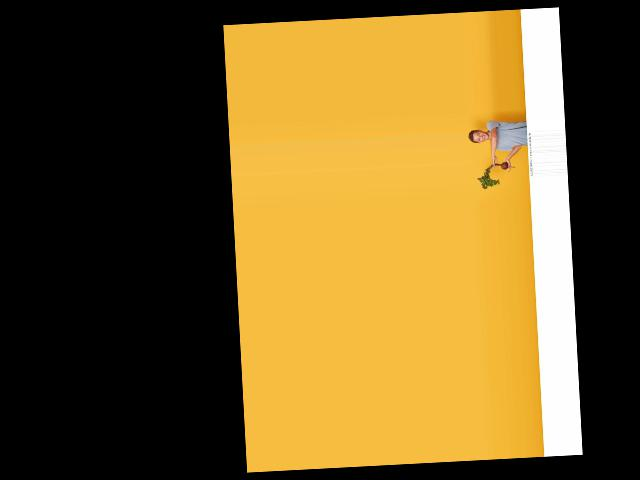beet: (477, 162, 516, 189)
